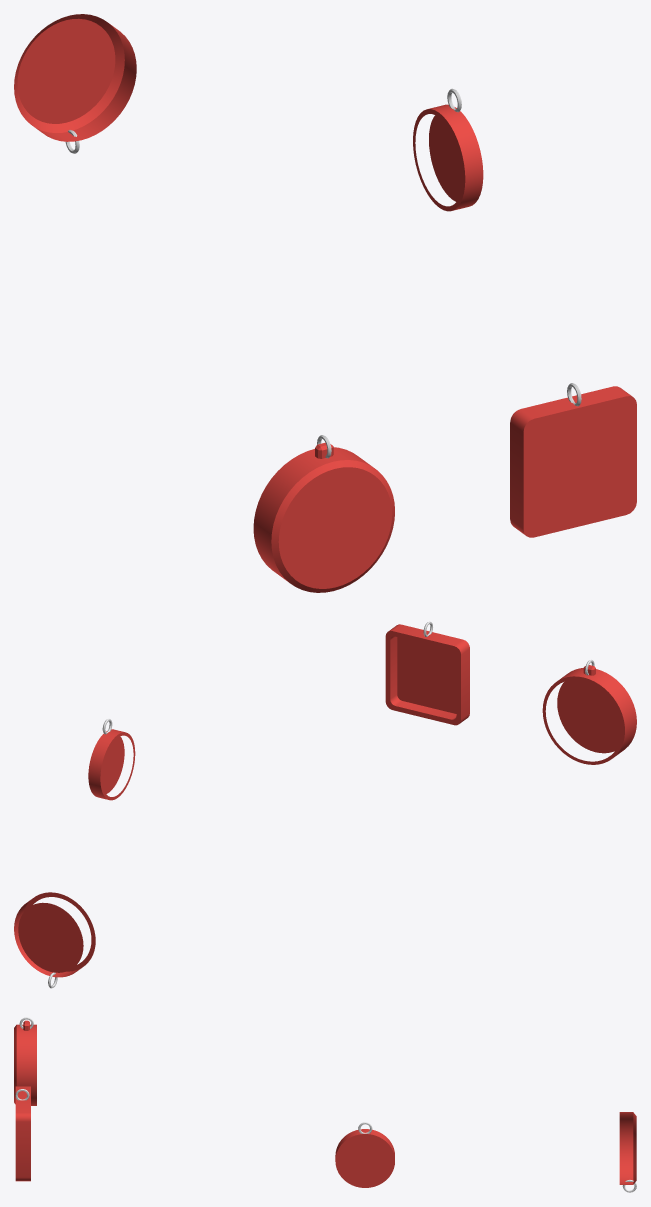
File: flight_covers.glb
The picture shows the model from 3 angles, top to bottom: view 1: azimuth 30°, elevation 25°; view 2: azimuth 150°, elevation 25°; view 3: azimuth 270°, elevation 25°; orthographic projection. The views are drawn at different scales.
Visible parts, largest first — view 1: cover_ir, cover_camera, cover_thruster, cover_star_tracker; view 2: cover_ir, cover_camera, cover_thruster, cover_star_tracker; view 3: cover_star_tracker, cover_camera, cover_ir, cover_thruster.
Part boxes in pixels (<box>): cover_ir: <box>510,383,636,537</box>; cover_camera: <box>253,435,394,592</box>; cover_thruster: <box>14,14,136,153</box>; cover_star_tracker: <box>413,88,483,211</box>; cover_ir: <box>385,621,469,725</box>; cover_camera: <box>542,659,636,764</box>; cover_thruster: <box>14,892,95,988</box>; cover_star_tracker: <box>88,719,135,800</box>; cover_star_tracker: <box>335,1122,394,1187</box>; cover_camera: <box>14,1017,36,1105</box>; cover_ir: <box>15,1086,30,1181</box>; cover_thruster: <box>619,1112,636,1192</box>.
Size of the model in its own units: 0.1907 by 0.073 by 0.3671.
